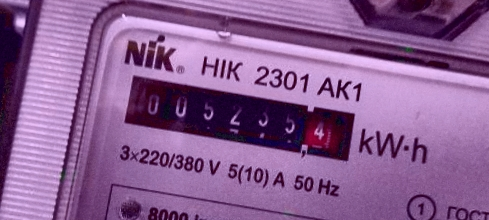0: (143, 90, 163, 118), (172, 92, 190, 119)
2: (226, 100, 244, 127)
3: (254, 102, 272, 129)
4: (310, 115, 329, 143)
5: (281, 107, 300, 136), (199, 95, 217, 123)
screen: (113, 65, 368, 171)
